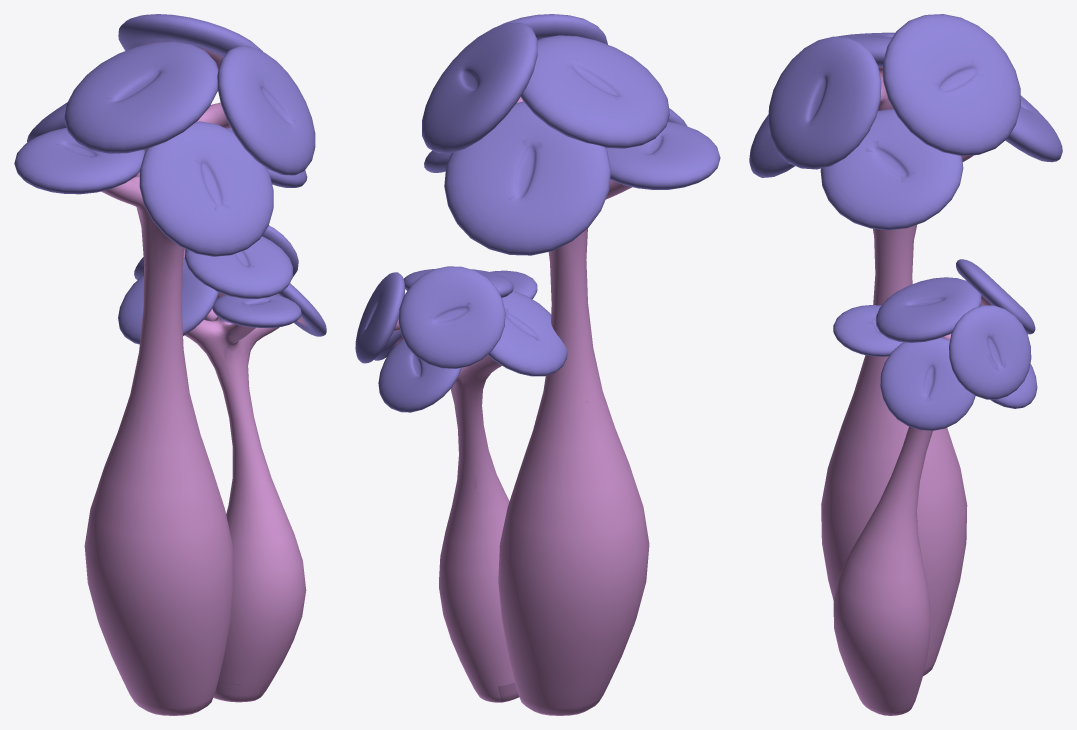
Rendered from Vase flowers.fbx.
3 views of the same model, side by side, from view 1: azimuth 30°, elevation 25°; view 2: azimuth 150°, elevation 25°; view 3: azimuth 270°, elevation 25° (orthographic). The views are drawn at different scales.
Visible parts, largest first — view 1: Big vase flowers, Little vase flowers; view 2: Big vase flowers, Little vase flowers; view 3: Big vase flowers, Little vase flowers.
Boxes of the visible parts, x1=… form: Big vase flowers: x1=14, y1=14, x2=315, y2=715; Little vase flowers: x1=118, y1=225, x2=326, y2=702; Big vase flowers: x1=422, y1=14, x2=720, y2=715; Little vase flowers: x1=355, y1=266, x2=567, y2=702; Big vase flowers: x1=749, y1=14, x2=1062, y2=676; Little vase flowers: x1=833, y1=259, x2=1037, y2=715.
Size of the model in its own units: 92.62 by 194 by 82.08.
